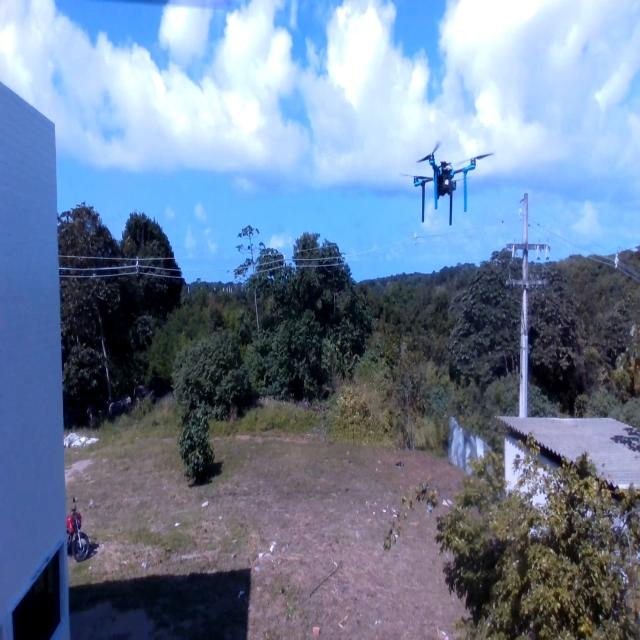-uav-: (401, 138, 500, 238)
